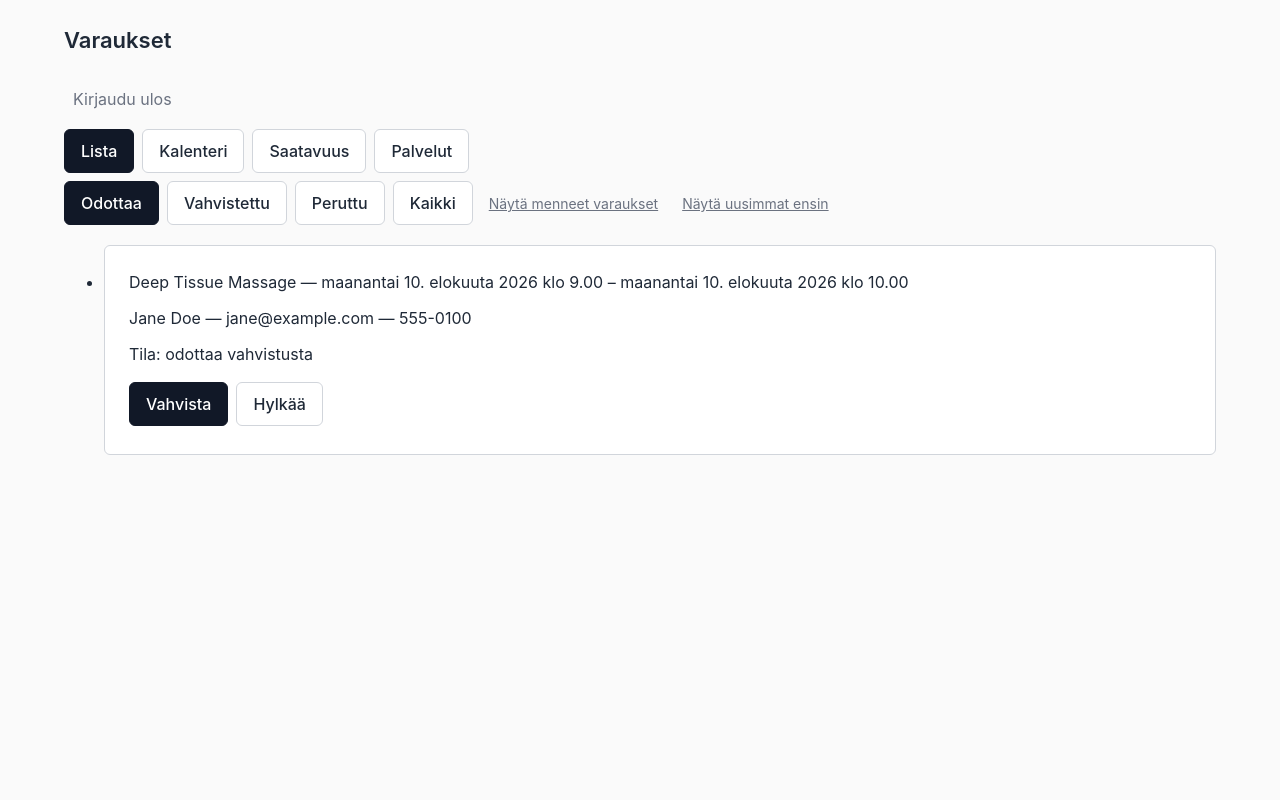
Test: AdminDashboard › switches to the calendar view and back via the toggle, without refetching or losing list state
Expected: the list item with test id "booking-booking-1" is shown, [104,245,1216,455]
Click the button "Kalenteri" at (193, 151), box [142,129,244,173]
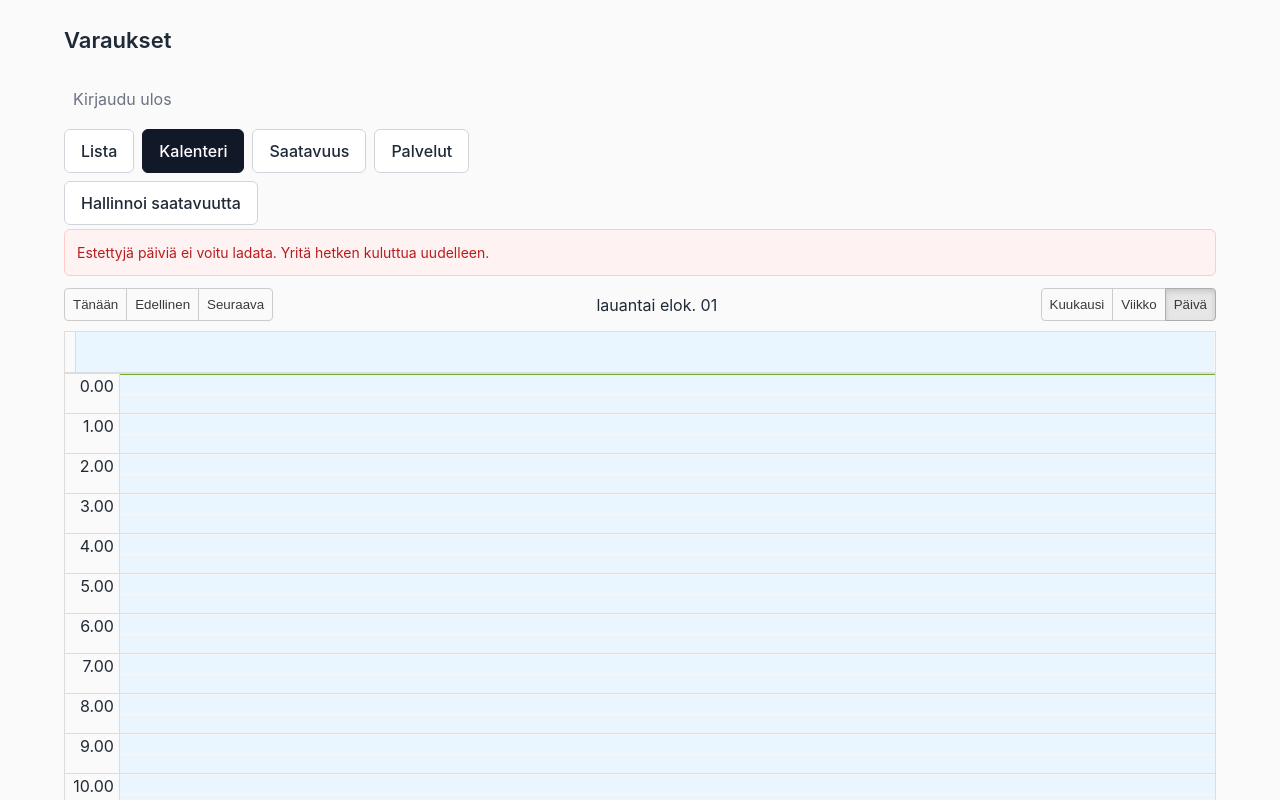
Result: the list item with test id "booking-booking-1" is gone
Click the button "Lista" at (99, 151), box [64,129,134,173]
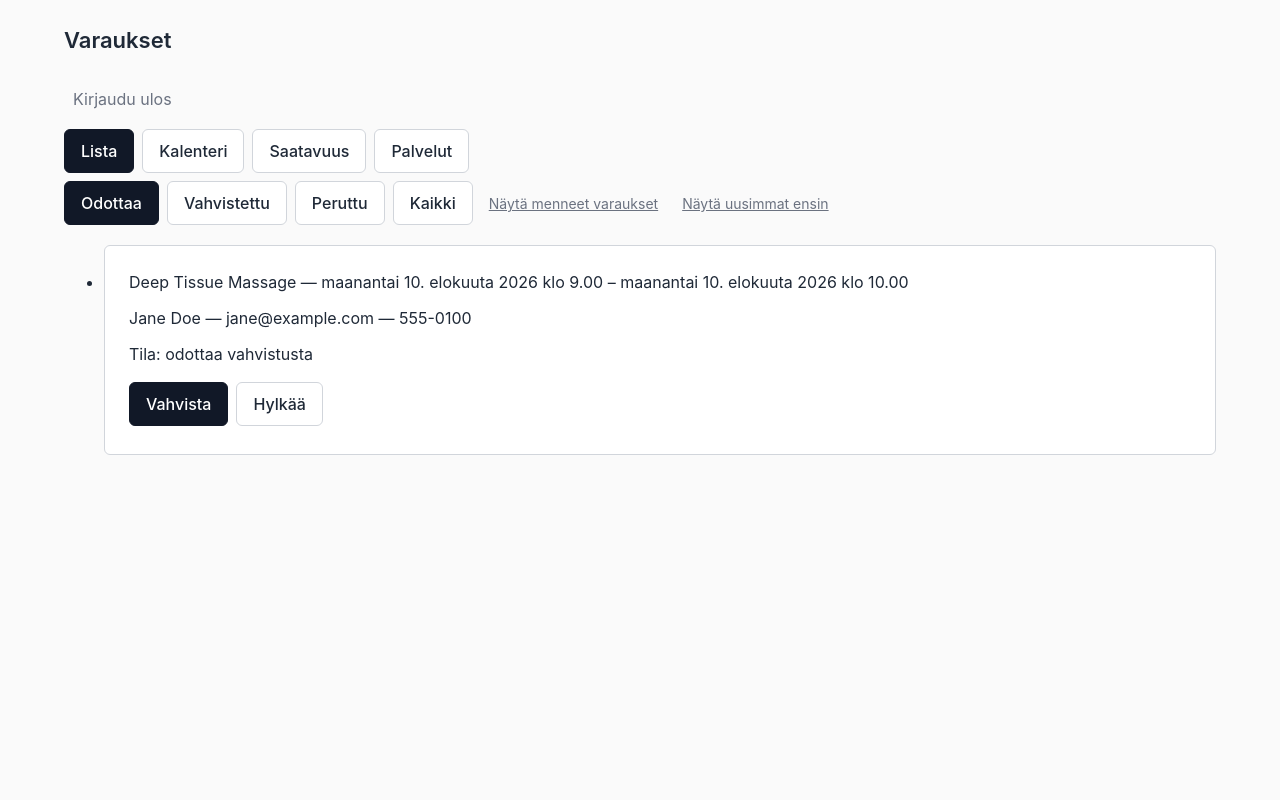
Result: the list item with test id "booking-booking-1" is shown at [104,245,1216,455]
